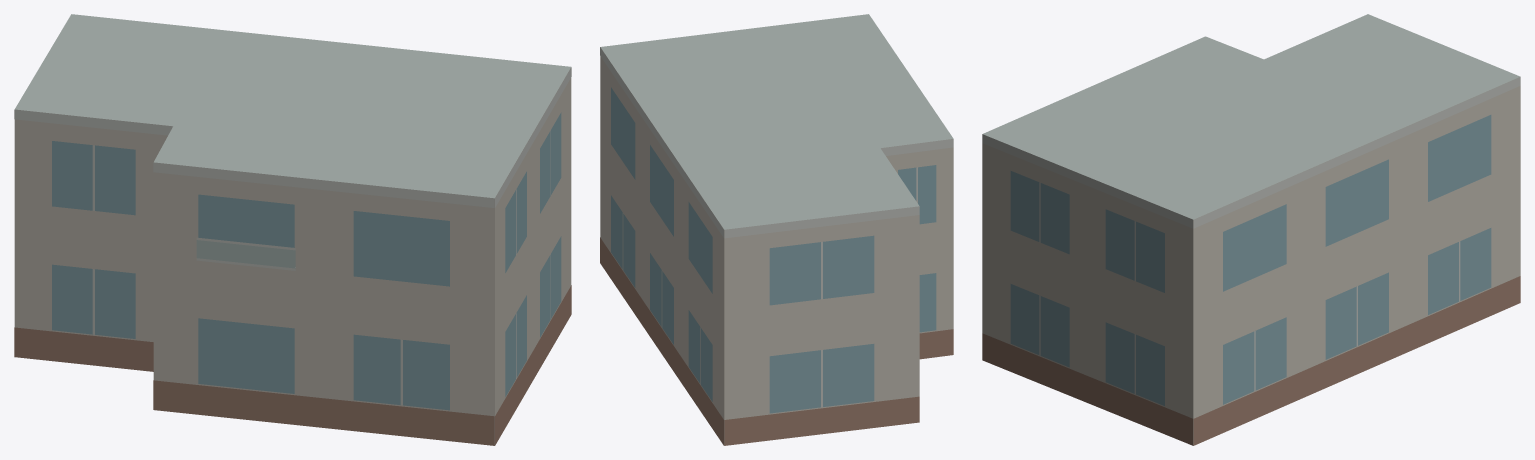
Rendered from survey-upis-32689393.glb.
The picture shows the model from 3 angles, left to right: view 1: azimuth 30°, elevation 25°; view 2: azimuth 150°, elevation 25°; view 3: azimuth 270°, elevation 25°; orthographic projection. The views are drawn at different scales.
Parts seen in each view (by area): view 1: survey-upis-32689393.tmp; view 2: survey-upis-32689393.tmp; view 3: survey-upis-32689393.tmp.
Boxes of the visible parts, x1,y1,x2,y2 form: survey-upis-32689393.tmp: [14, 14, 571, 445]; survey-upis-32689393.tmp: [600, 14, 953, 445]; survey-upis-32689393.tmp: [982, 14, 1520, 445].
Bounding box in the file's own units: 11.91 × 6.1 × 13.17.
